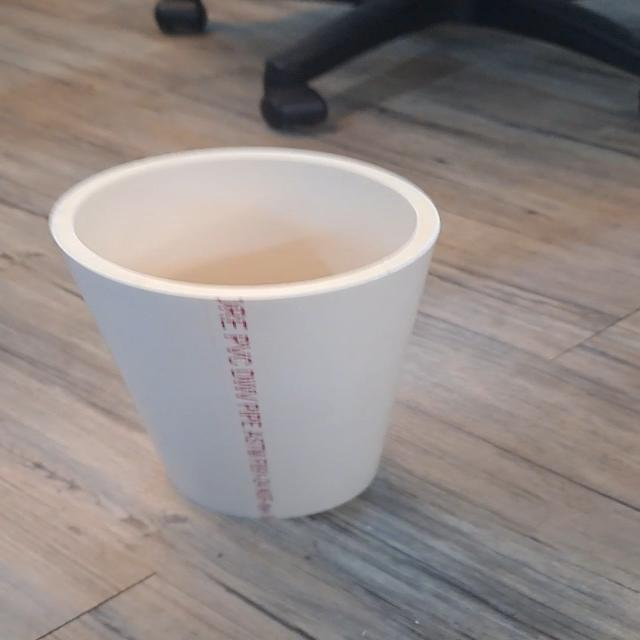CORAL: (36, 142, 445, 522)
